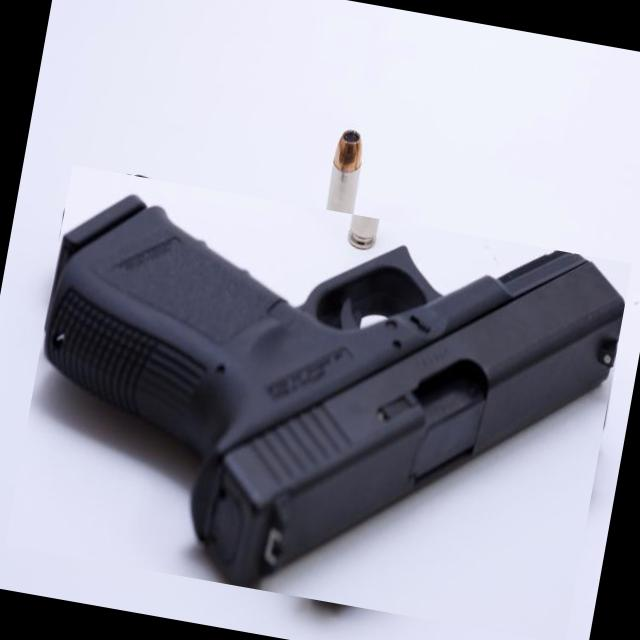Gun: (46, 196, 624, 587)
